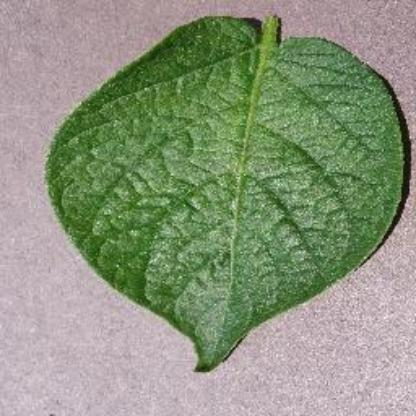Healthy-plant: (38, 13, 416, 377)
